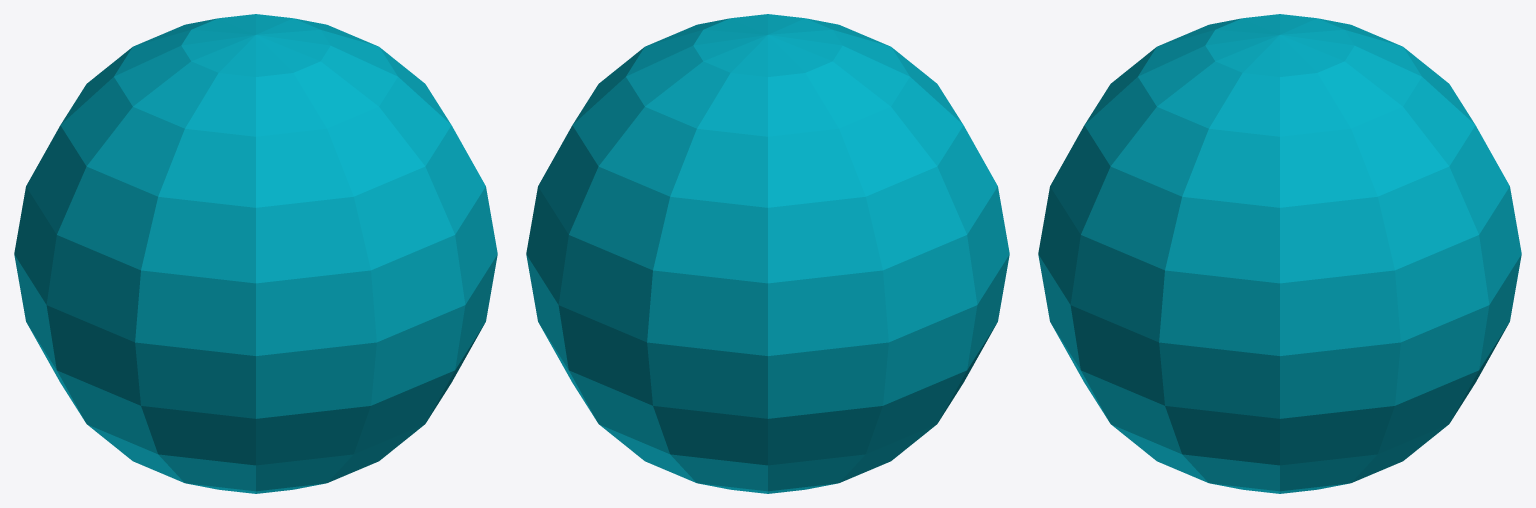
File: item_power_ups_shield_active.fbx
3 renders of one model, left to right at view 1: azimuth 30°, elevation 25°; view 2: azimuth 150°, elevation 25°; view 3: azimuth 270°, elevation 25°, orthographic.
Visible parts, largest first — view 1: Escudo Ativo; view 2: Escudo Ativo; view 3: Escudo Ativo.
Part boxes in pixels (left/top/right/bottom): Escudo Ativo: left=14, top=14, right=497, bottom=493; Escudo Ativo: left=526, top=14, right=1009, bottom=493; Escudo Ativo: left=1038, top=14, right=1521, bottom=493.
Bounding box in the file's own units: 313 × 313 × 313.
